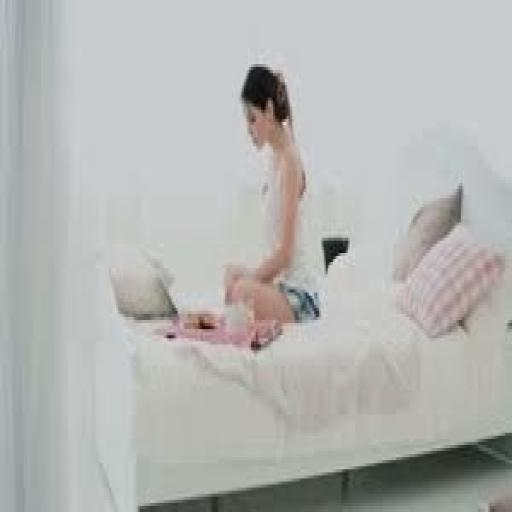using_laptop: (148, 231, 268, 361)
